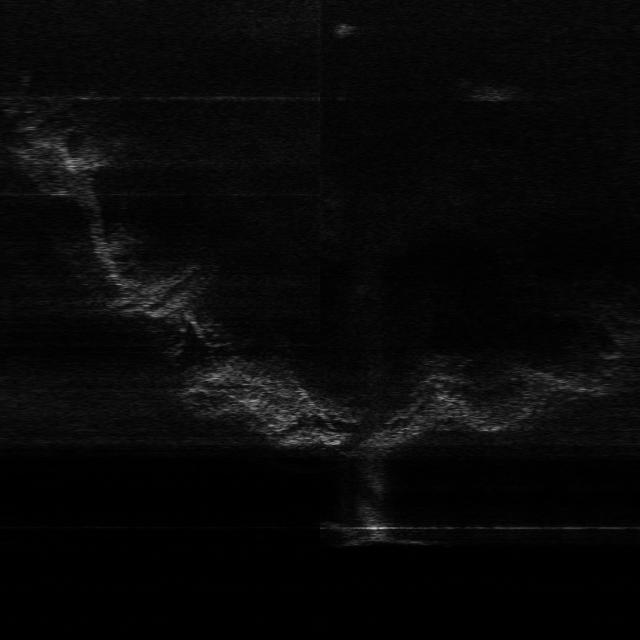plane: (321, 517, 443, 547)
